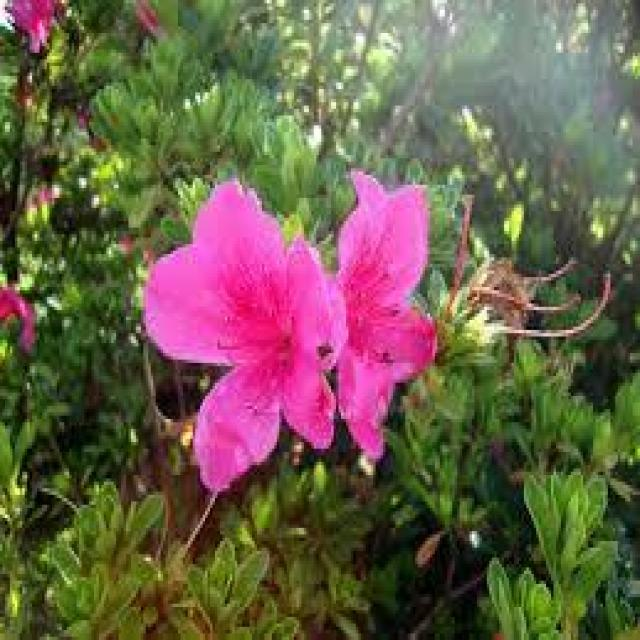organic waste: (131, 180, 336, 493), (310, 158, 456, 472)
